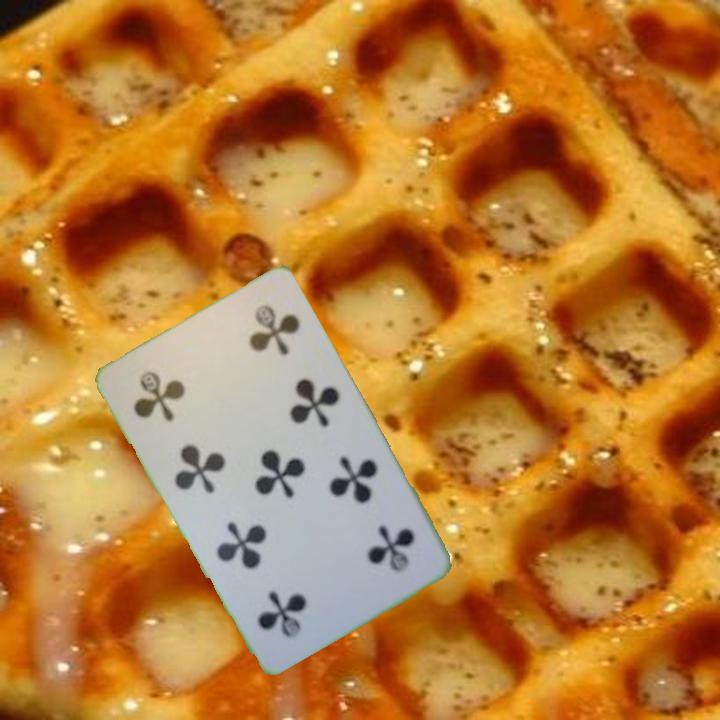c_9.png: (111, 331, 239, 453), (311, 489, 438, 611)
